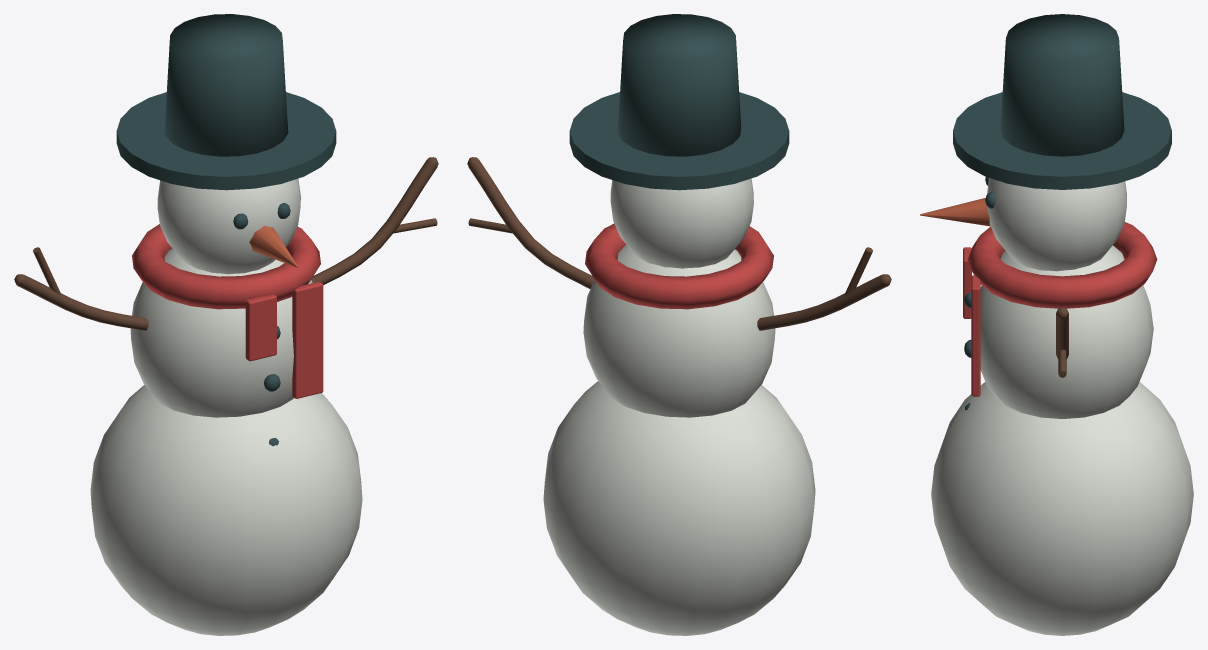
The model's file is almanac-gardens-snowman-ea474893__22089.glb.
3 views of the same model, side by side, from view 1: azimuth 30°, elevation 25°; view 2: azimuth 150°, elevation 25°; view 3: azimuth 270°, elevation 25° (orthographic).
Parts seen in each view (by area): view 1: snowman-snow, snowman-iron, snowman-red, snowman-bark, snowman-clay; view 2: snowman-snow, snowman-iron, snowman-red, snowman-bark; view 3: snowman-snow, snowman-iron, snowman-red, snowman-clay, snowman-bark.
Part boxes in pixels (x1=…): snowman-snow: x1=90, y1=178, x2=362, y2=635; snowman-iron: x1=116, y1=14, x2=336, y2=446; snowman-red: x1=132, y1=224, x2=323, y2=398; snowman-bark: x1=14, y1=157, x2=438, y2=330; snowman-clay: x1=249, y1=225, x2=298, y2=267; snowman-snow: x1=543, y1=178, x2=815, y2=635; snowman-iron: x1=569, y1=14, x2=789, y2=190; snowman-red: x1=585, y1=223, x2=773, y2=309; snowman-bark: x1=467, y1=157, x2=891, y2=330; snowman-snow: x1=931, y1=178, x2=1193, y2=635; snowman-iron: x1=953, y1=14, x2=1171, y2=410; snowman-red: x1=963, y1=222, x2=1157, y2=396; snowman-clay: x1=920, y1=198, x2=990, y2=226; snowman-bark: x1=1056, y1=307, x2=1068, y2=377.
Size of the model in its own units: 1.34 by 1.77 by 0.7501.
